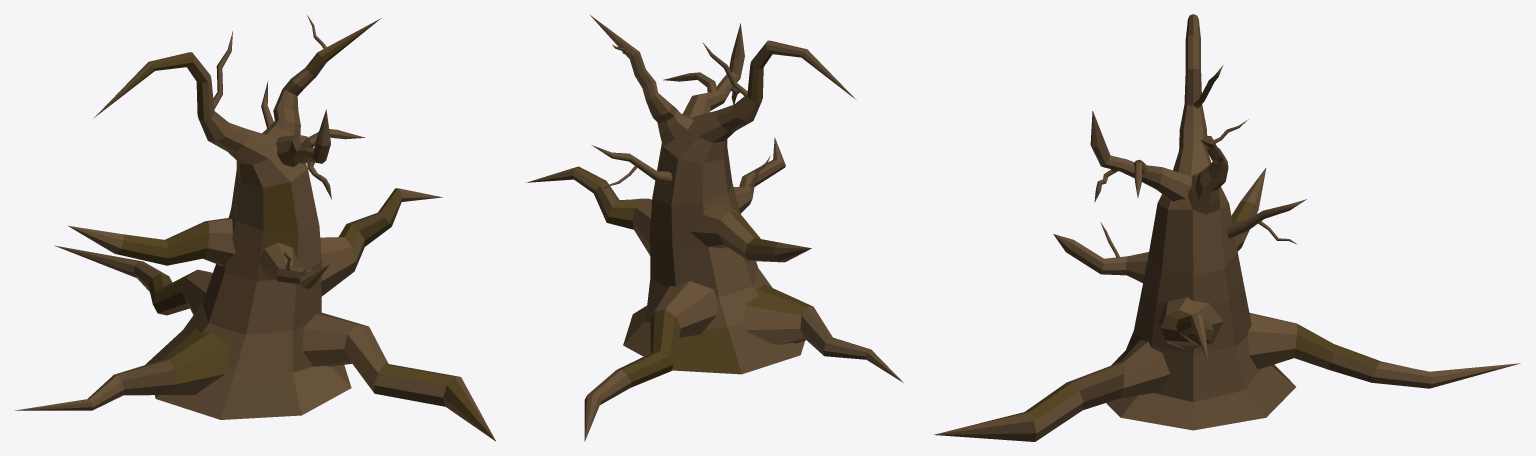
File: Tree 2.fbx
3 renders of one model, left to right at view 1: azimuth 30°, elevation 25°; view 2: azimuth 150°, elevation 25°; view 3: azimuth 270°, elevation 25°, orthographic. The views are drawn at different scales.
Parts seen in each view (by area): view 1: Circle; view 2: Circle; view 3: Circle.
Part boxes in pixels (x1=…): Circle: x1=15, y1=15, x2=495, y2=441; Circle: x1=527, y1=14, x2=903, y2=441; Circle: x1=934, y1=14, x2=1520, y2=441.
Size of the model in its own units: 627 by 480 by 782.
